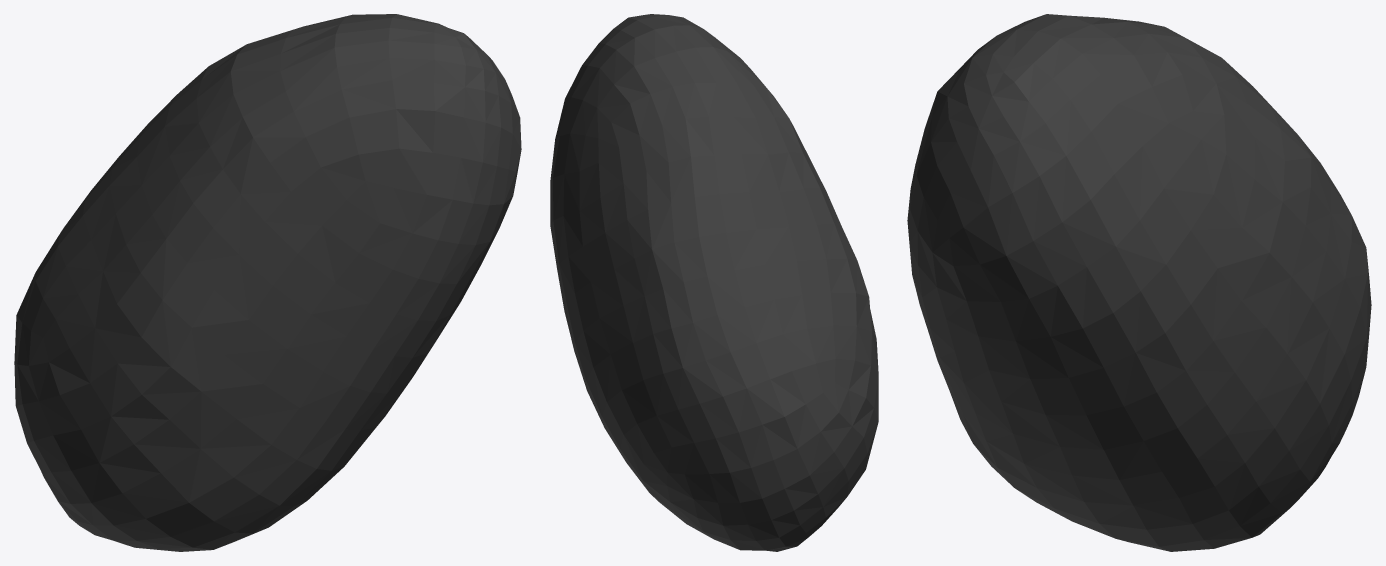
Rendered from dorsal_sesamoid_middle_II_L.glb.
3 views of the same model, side by side, from view 1: azimuth 30°, elevation 25°; view 2: azimuth 150°, elevation 25°; view 3: azimuth 270°, elevation 25° (orthographic). The views are drawn at different scales.
Visible parts, largest first — view 1: dorsal_sesamoid_middle_II_L; view 2: dorsal_sesamoid_middle_II_L; view 3: dorsal_sesamoid_middle_II_L.
Part boxes in pixels (x1,y1,x2,y2): dorsal_sesamoid_middle_II_L: (14, 14, 521, 551); dorsal_sesamoid_middle_II_L: (550, 14, 878, 551); dorsal_sesamoid_middle_II_L: (907, 14, 1371, 551).
Bounding box in the file's own units: 0.00388 × 0.00478 × 0.0034.
1 material, 1 textured.
